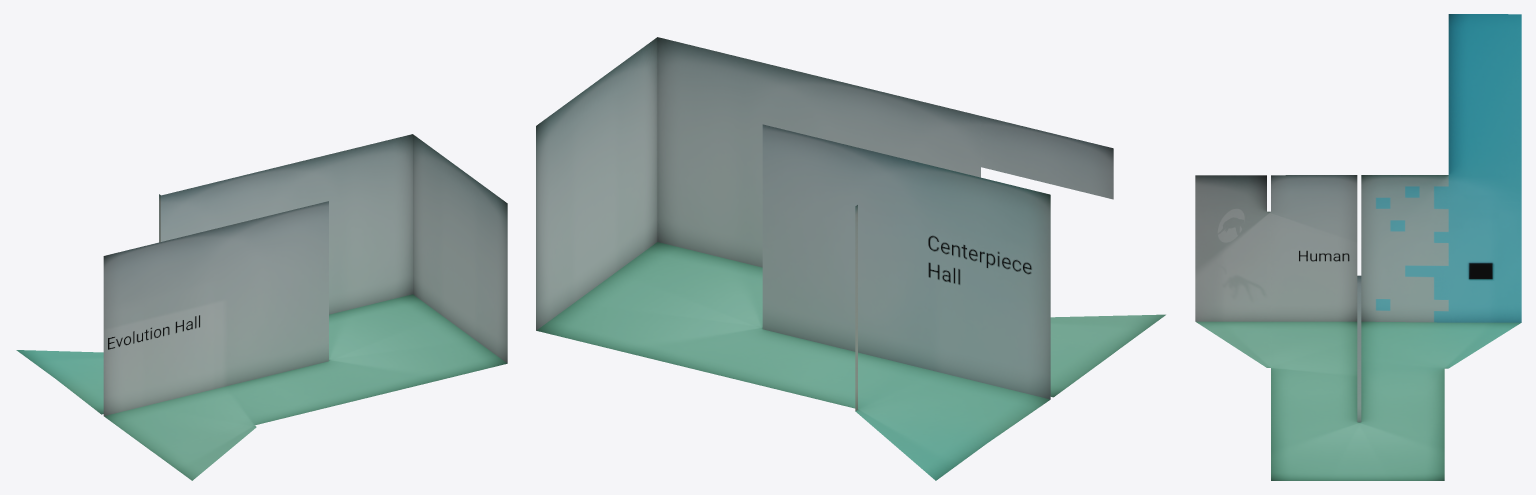
The model's file is divider.glb.
The picture shows the model from 3 angles, left to right: view 1: azimuth 30°, elevation 25°; view 2: azimuth 150°, elevation 25°; view 3: azimuth 270°, elevation 25°; orthographic projection. The views are drawn at different scales.
Parts seen in each view (by area): view 1: Divider.main.evolution.plain; view 2: Divider.main.evolution.plain; view 3: Divider.main.evolution.plain.
Part boxes in pixels (left/top/right/bottom): Divider.main.evolution.plain: left=16, top=134, right=507, bottom=480; Divider.main.evolution.plain: left=536, top=37, right=1165, bottom=480; Divider.main.evolution.plain: left=1195, top=14, right=1521, bottom=480.
Bounding box in the file's own units: 9.32 × 8.4 × 8.08.
Materials: 1 (1 with a texture image).
